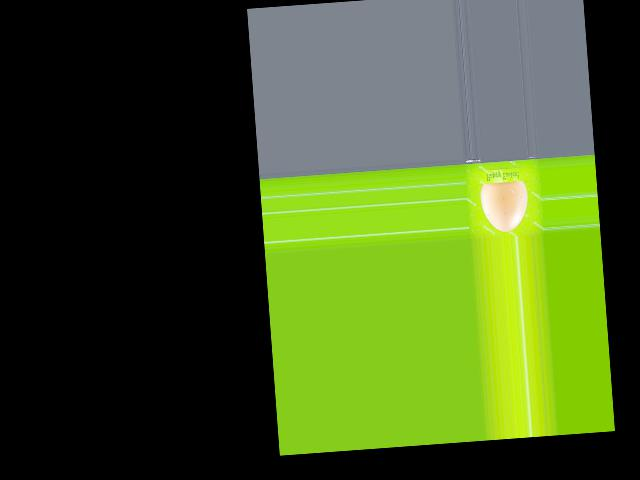egg: (480, 181, 530, 233)
